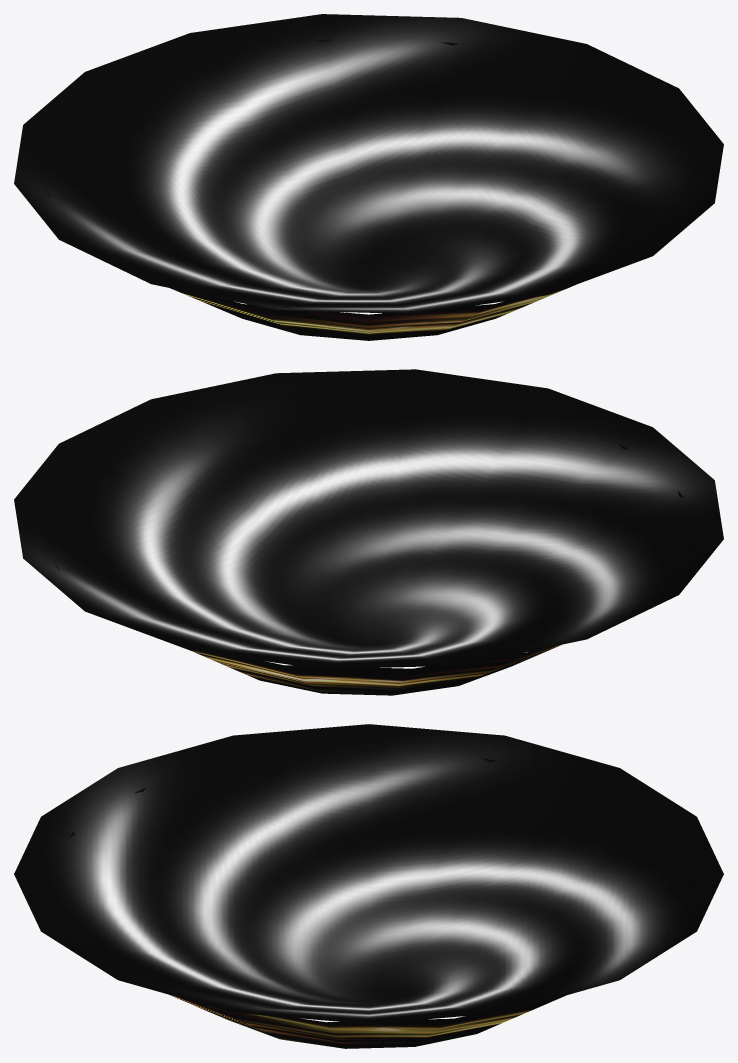
Rendered from fx_fbx_debuff_swim.FBX.
The picture shows the model from 3 angles, top to bottom: view 1: azimuth 30°, elevation 25°; view 2: azimuth 150°, elevation 25°; view 3: azimuth 270°, elevation 25°; orthographic projection.
Visible parts, largest first — view 1: Cone001; view 2: Cone001; view 3: Cone001.
Boxes of the visible parts, x1,y1,x2,y2 form: Cone001: (14, 14, 723, 340); Cone001: (14, 369, 723, 695); Cone001: (14, 724, 723, 1048).
Bounding box in the file's own units: 141 × 141 × 27.03.
1 material, 1 textured.
